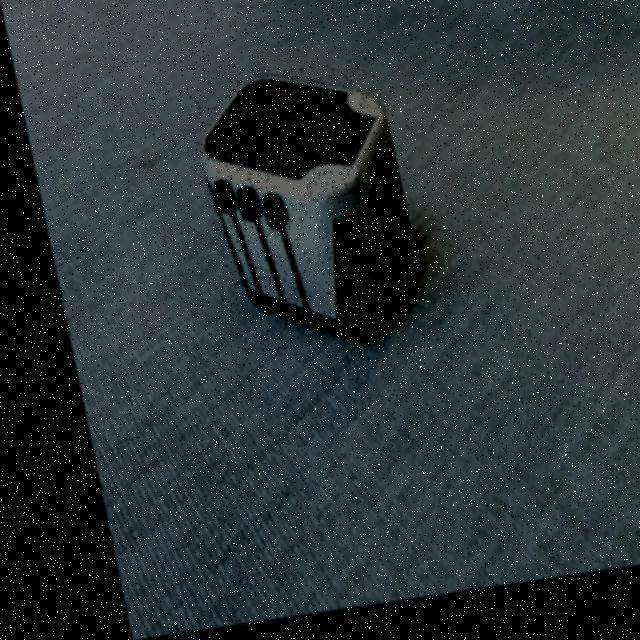adapter: (179, 68, 416, 362)
